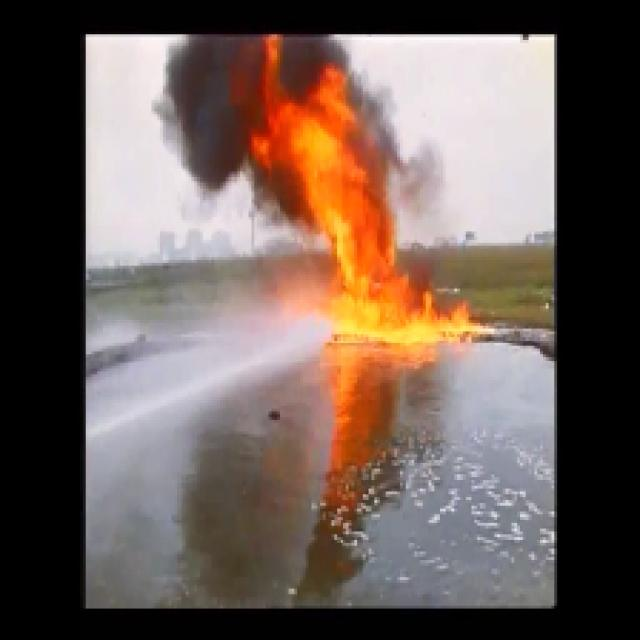fire: (274, 126, 432, 330)
smoke: (178, 42, 244, 175)
